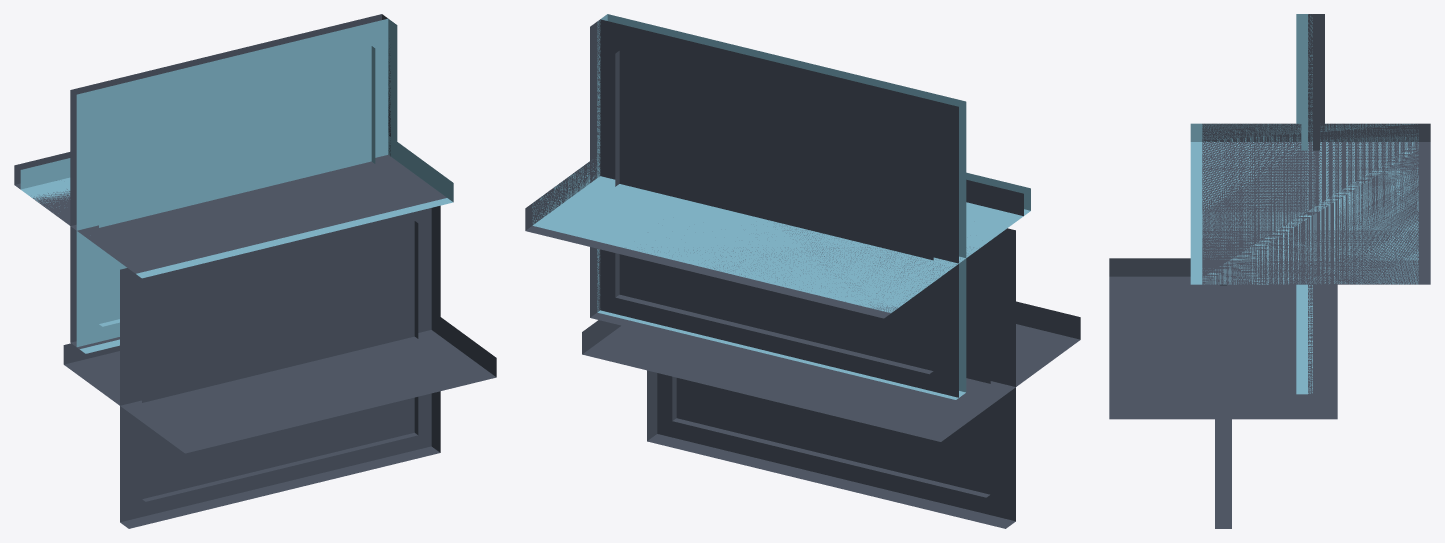
The model's file is laptop.glb.
The picture shows the model from 3 angles, left to right: view 1: azimuth 30°, elevation 25°; view 2: azimuth 150°, elevation 25°; view 3: azimuth 270°, elevation 25°; orthographic projection. The views are drawn at different scales.
Size of the model in its own units: 2 by 2.43 by 1.9.
